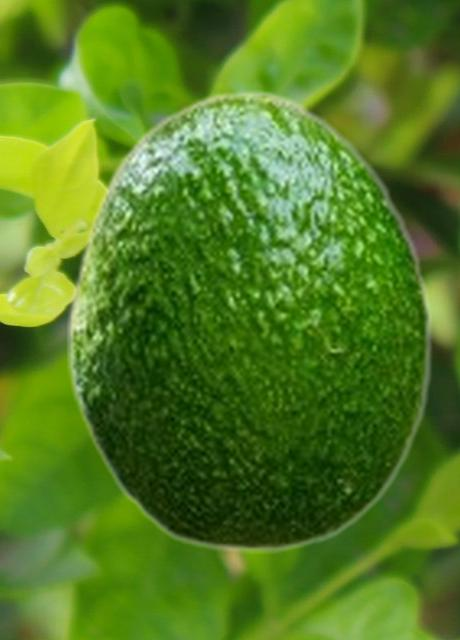avocado: (67, 89, 433, 552)
